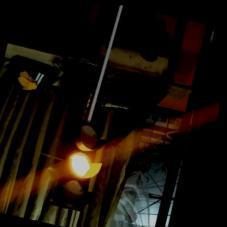yellow: (54, 117, 112, 211)
